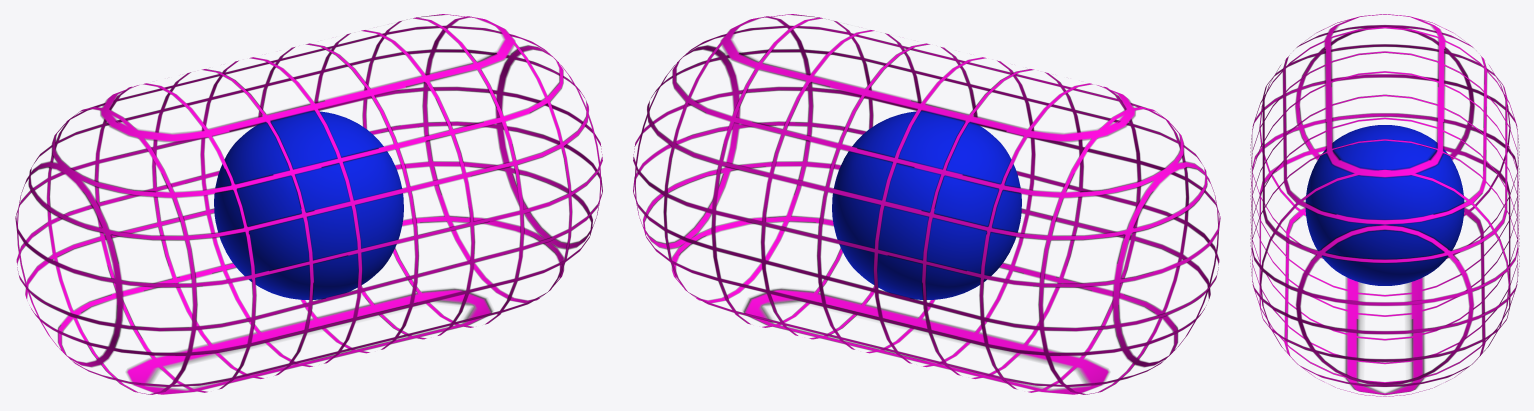
Rendered from block_clear2.glb.
The picture shows the model from 3 angles, left to right: view 1: azimuth 30°, elevation 25°; view 2: azimuth 150°, elevation 25°; view 3: azimuth 270°, elevation 25°; orthographic projection. The views are drawn at different scales.
Parts seen in each view (by area): view 1: block, ball; view 2: block, ball; view 3: block, ball.
Boxes of the visible parts, x1,y1,x2,y2 form: block: (15,14,602,394); ball: (214,111,403,299); block: (633,14,1220,394); ball: (832,111,1021,299); block: (1250,14,1519,396); ball: (1305,125,1464,285).
Bounding box in the file's own units: 2 × 1 × 1.
2 materials, 1 textured.
